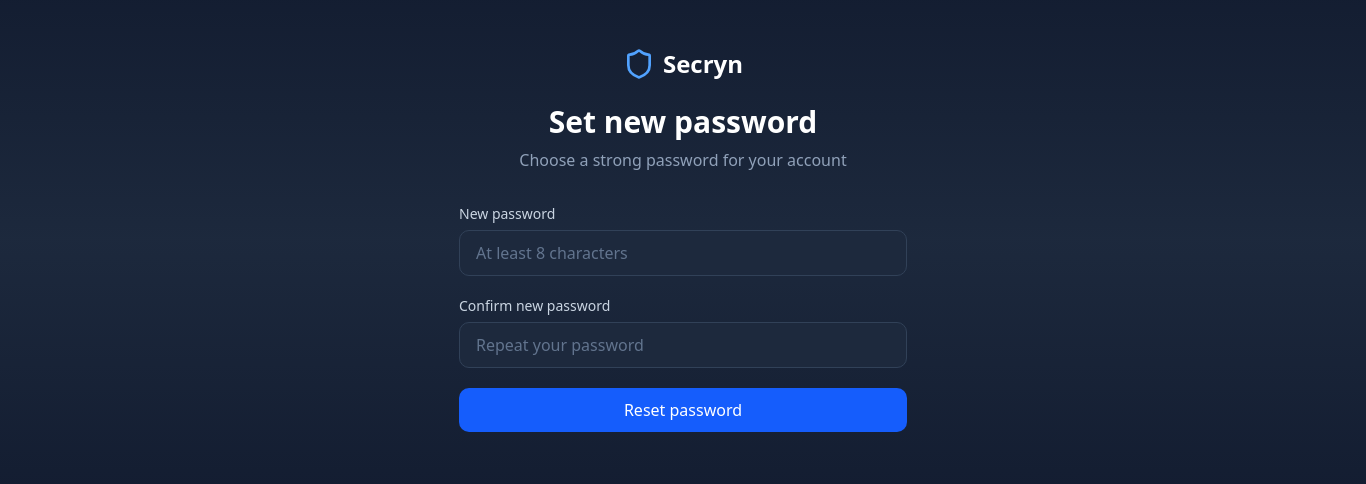
Test: ResetPasswordPage › shows password too short error
This screenshot has width=1366, height=484.
Type "short" into the password field labelled "New password" at coordinates (683, 253), box [459, 230, 907, 276]
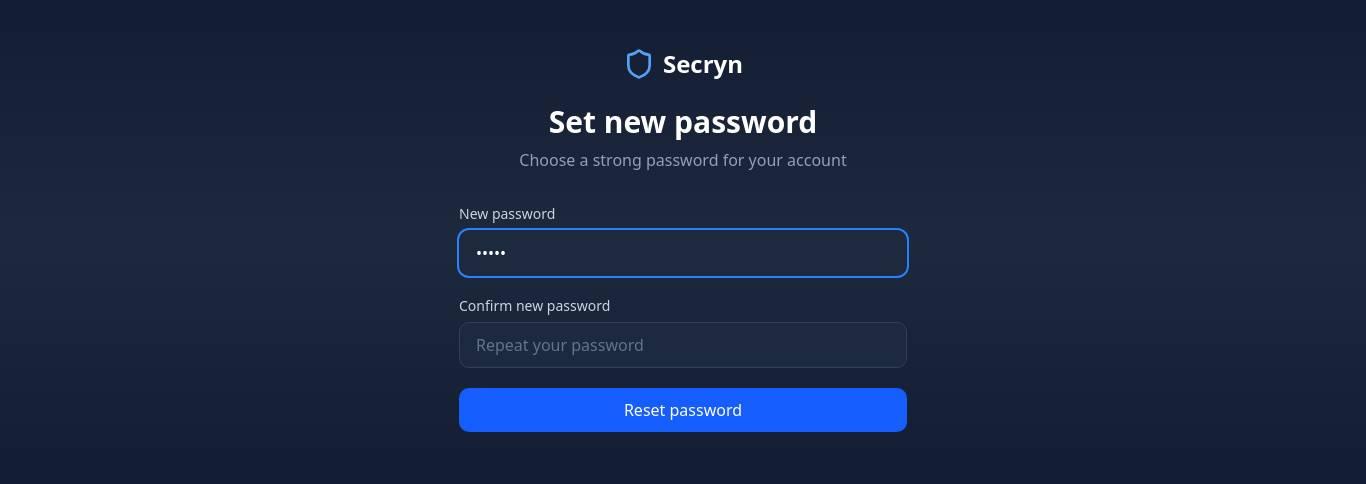
Type "short" into the password field labelled "Confirm new password" at coordinates (683, 345), box [459, 322, 907, 368]
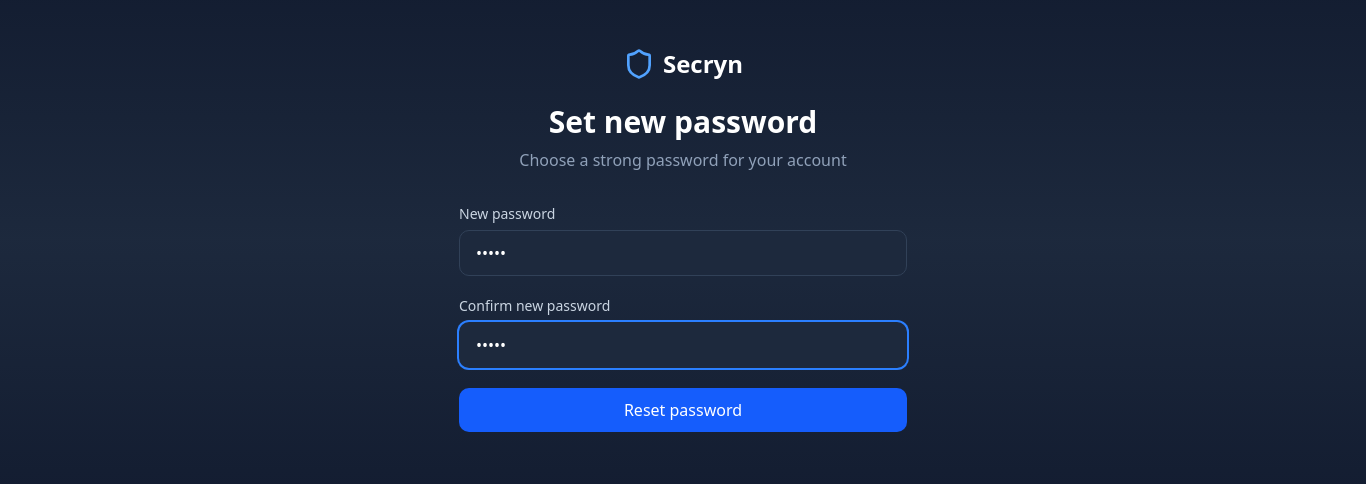
Click the button "Reset password" at coordinates (683, 410), box [459, 388, 907, 432]
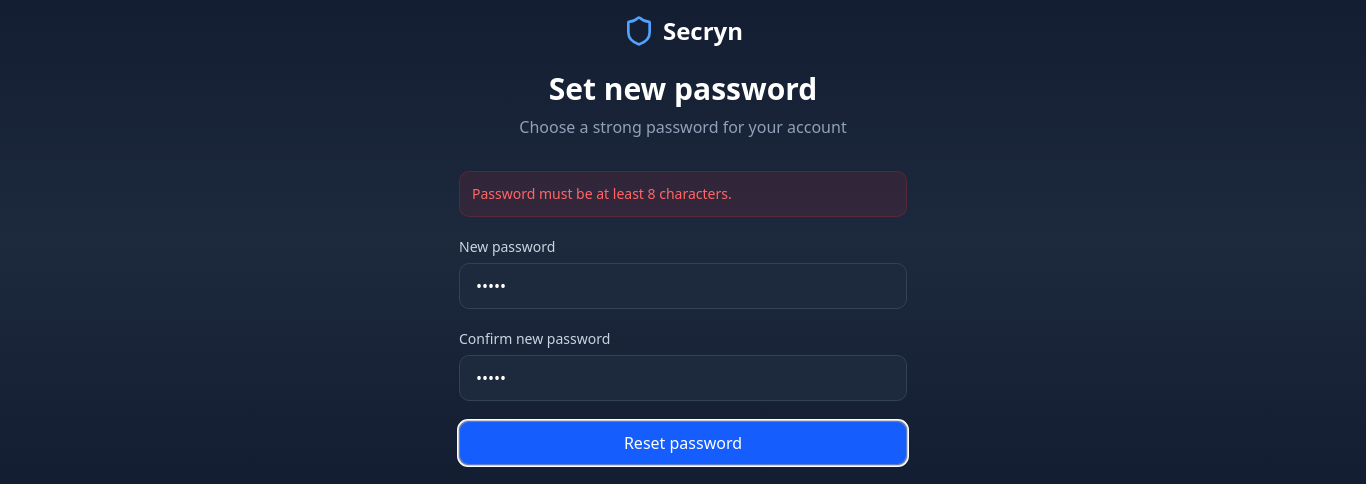
Check: the text "Password must be at least 8 characters." is shown, box [459, 171, 907, 217]
